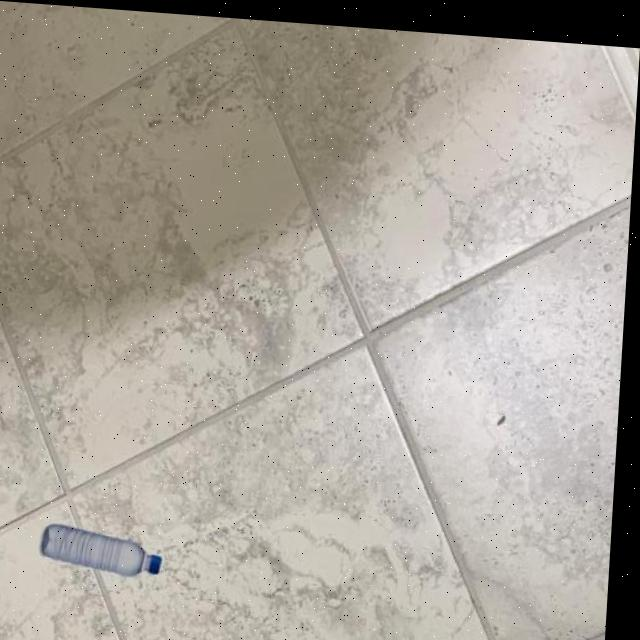bottle: (44, 520, 170, 576)
